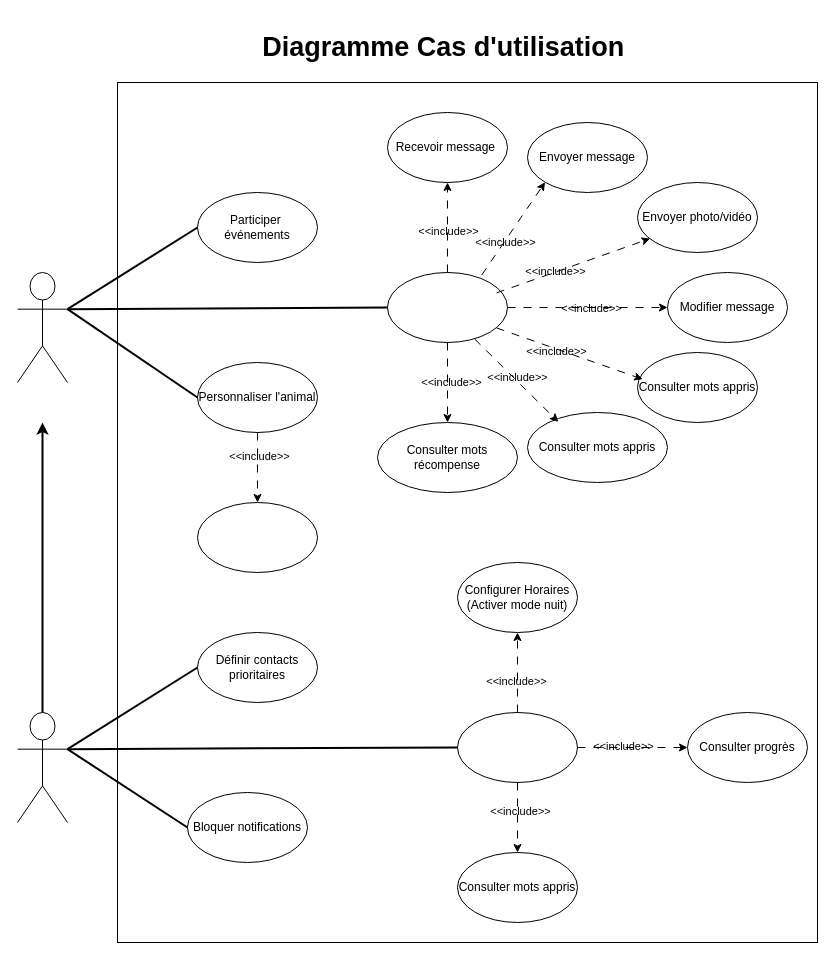
The diagram is 835 pixels wide and 960 high, and some of its shapes have lost their labels. Here are the shapes that lost their labels. From the top down, the box of each, then its label:
(16, 272, 68, 382): Enfants
(386, 272, 508, 342): Messagerie
(196, 502, 318, 572): Nourrir l'animal
(16, 712, 68, 822): Parents
(456, 712, 578, 782): Consulter activité enfant
